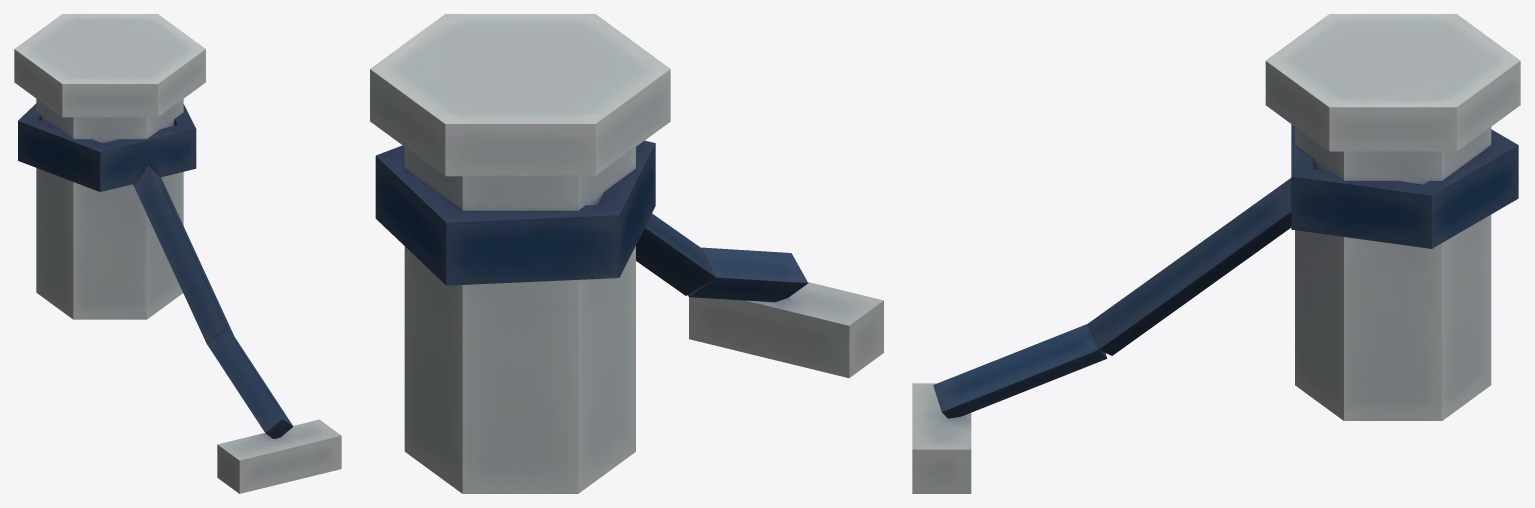
File: raft-moor-age20.glb
The picture shows the model from 3 angles, left to right: view 1: azimuth 30°, elevation 25°; view 2: azimuth 150°, elevation 25°; view 3: azimuth 270°, elevation 25°; orthographic projection. The views are drawn at different scales.
Parts seen in each view (by area): view 1: raft-moor-age20; view 2: raft-moor-age20; view 3: raft-moor-age20.
Part boxes in pixels (bbox=[...]): raft-moor-age20: bbox=[14, 14, 341, 493]; raft-moor-age20: bbox=[370, 14, 883, 493]; raft-moor-age20: bbox=[912, 14, 1520, 493].
Size of the model in its own units: 0.1217 by 0.225 by 0.31.
1 material, 1 textured.
